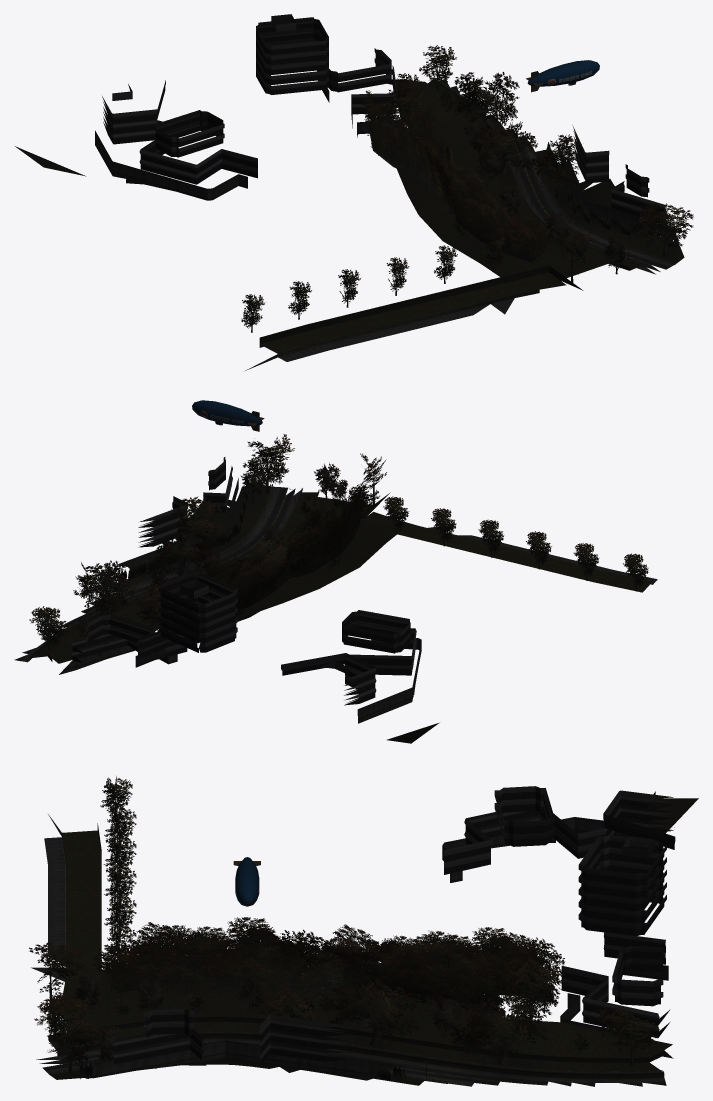
The model's file is cell_0_-14.gltf.
3 renders of one model, top to bottom at view 1: azimuth 30°, elevation 25°; view 2: azimuth 150°, elevation 25°; view 3: azimuth 270°, elevation 25°, orthographic. The views are drawn at different scales.
Visible parts, largest first — view 1: cell_0_-14; view 2: cell_0_-14; view 3: cell_0_-14.
Part boxes in pixels (x1,y1,x2,y2): cell_0_-14: (15,14,693,370); cell_0_-14: (14,400,657,743); cell_0_-14: (29,776,698,1086).
Bounding box in the file's own units: 277 × 87.24 × 286.
Materials: 24 (24 with a texture image).
